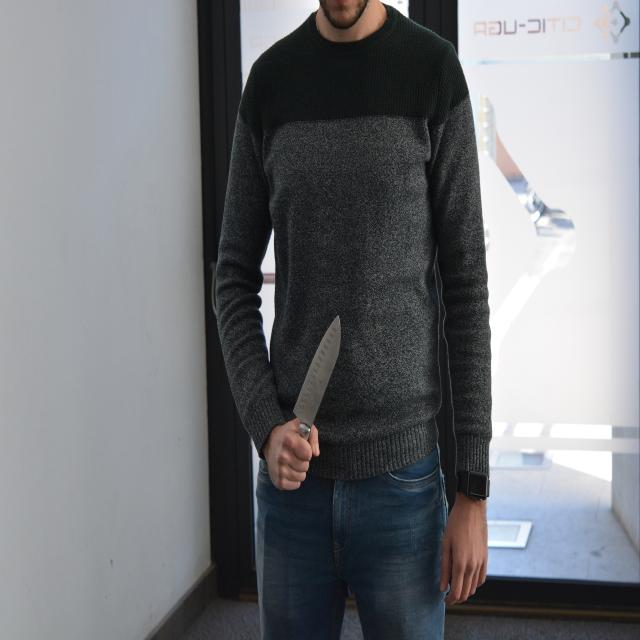knife: (290, 313, 346, 430)
